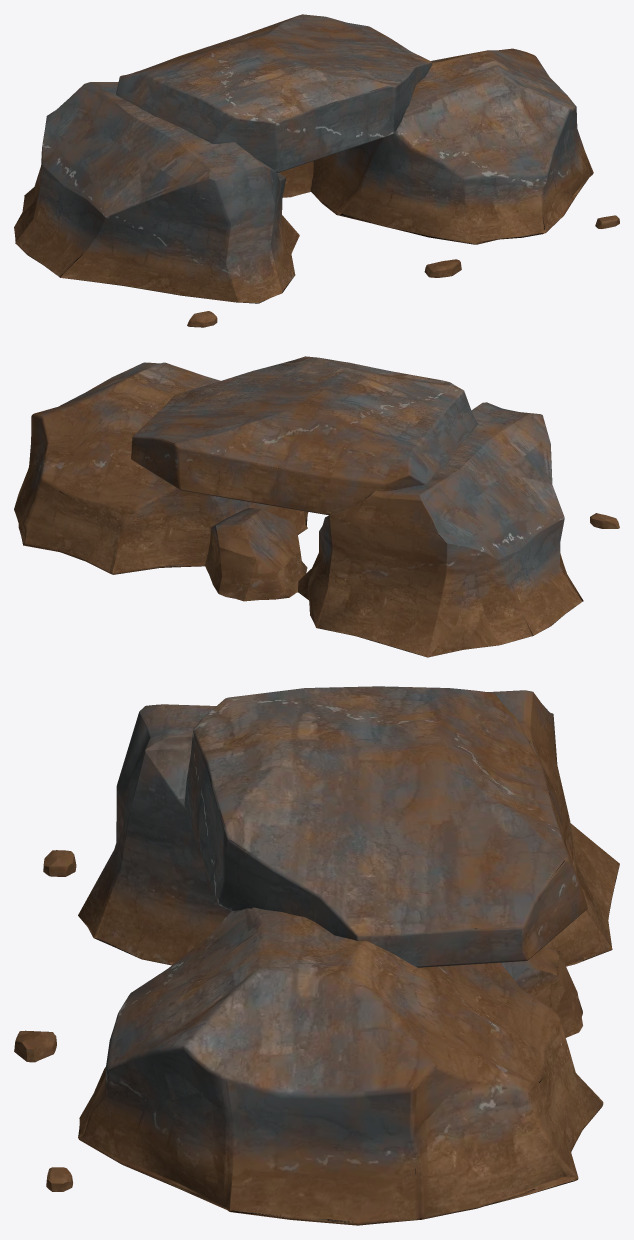
The model's file is titanium-eroded-window.glb.
3 renders of one model, top to bottom at view 1: azimuth 30°, elevation 25°; view 2: azimuth 150°, elevation 25°; view 3: azimuth 270°, elevation 25°, orthographic. The views are drawn at different scales.
Parts seen in each view (by area): view 1: Titanium eroded-window / baked runtime; view 2: Titanium eroded-window / baked runtime; view 3: Titanium eroded-window / baked runtime.
Boxes of the visible parts, left/top/right/bottom form: Titanium eroded-window / baked runtime: left=14, top=14, right=619, bottom=327; Titanium eroded-window / baked runtime: left=14, top=356, right=619, bottom=657; Titanium eroded-window / baked runtime: left=14, top=686, right=619, bottom=1225.
Bounding box in the file's own units: 10 × 2.91 × 6.28.
Materials: 1 (1 with a texture image).
